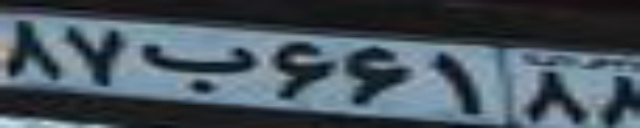1: (431, 51, 481, 114)
6: (341, 45, 413, 105), (266, 40, 334, 99)
7: (64, 26, 129, 86)
8: (1, 19, 62, 81), (522, 69, 587, 124), (596, 74, 639, 126)
be: (140, 40, 254, 95)
